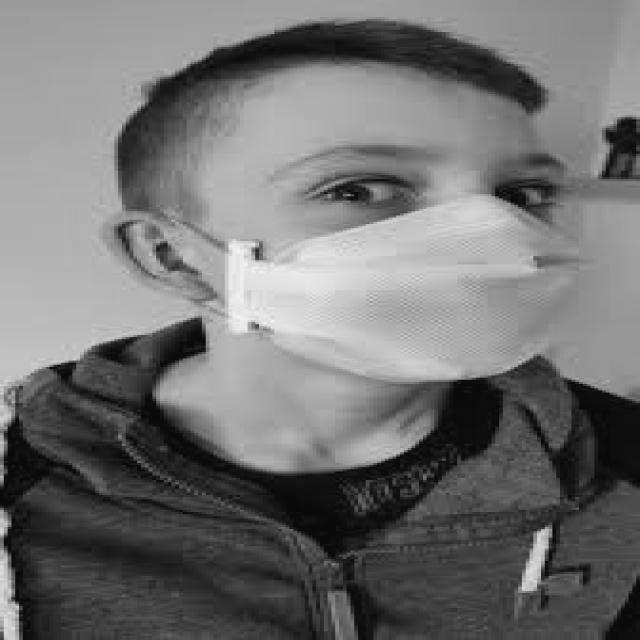fake: (219, 191, 591, 384)
real: (203, 77, 566, 390)
